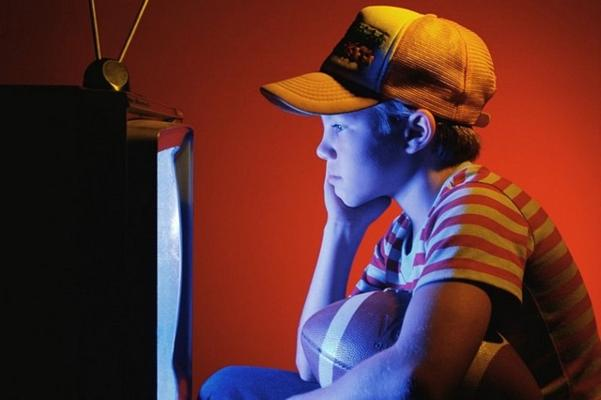person: (204, 7, 601, 399)
